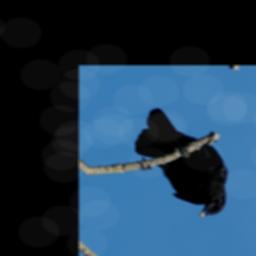Crow: (120, 103, 245, 225)
